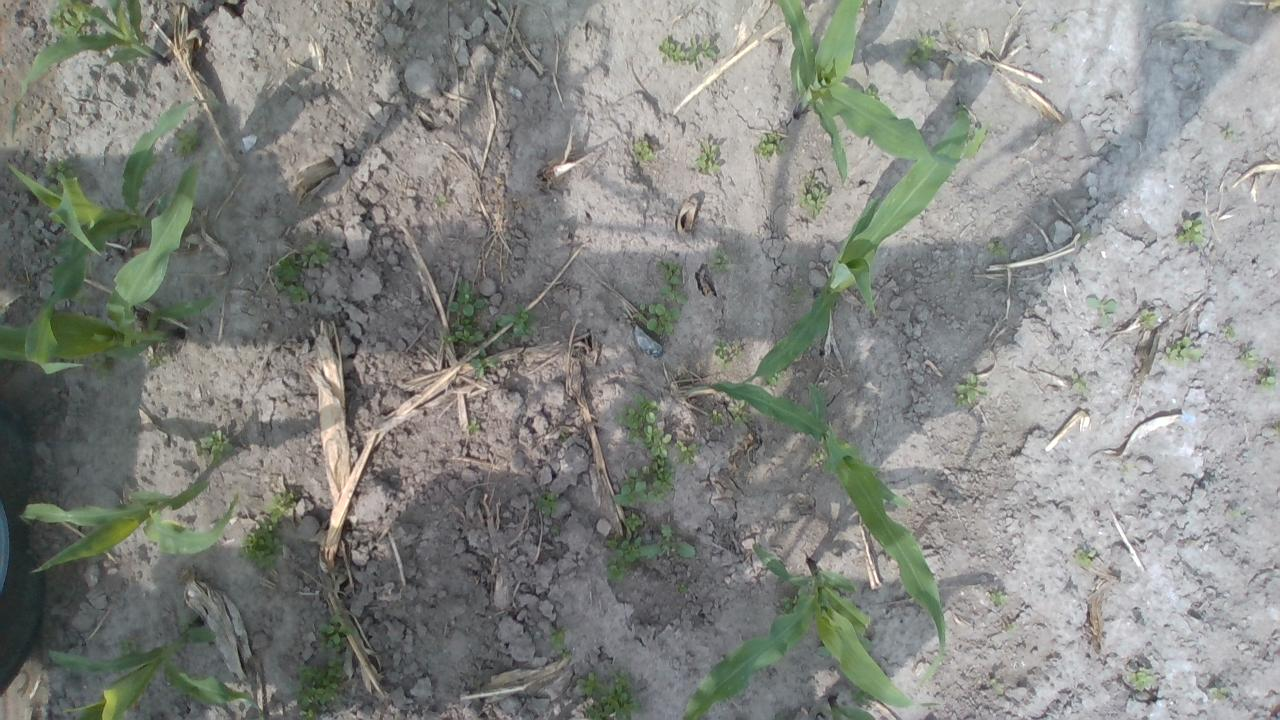Maize: (689, 378, 947, 681), (745, 103, 969, 391), (9, 98, 199, 374), (681, 542, 944, 720), (0, 157, 211, 366), (770, 0, 990, 186), (49, 614, 262, 720), (15, 480, 238, 572), (20, 0, 168, 98), (825, 693, 875, 720)
Weeds: (616, 392, 674, 465), (575, 671, 641, 720), (294, 656, 344, 720), (444, 278, 490, 344), (615, 458, 675, 507), (606, 536, 660, 582), (240, 518, 285, 571), (491, 304, 536, 343), (47, 0, 92, 37), (192, 428, 232, 468), (316, 610, 354, 652), (638, 304, 682, 339), (655, 261, 689, 305), (800, 176, 830, 220), (951, 374, 990, 407), (1165, 336, 1202, 368), (902, 32, 936, 64), (270, 254, 302, 286), (751, 131, 786, 160), (1086, 296, 1116, 328), (686, 36, 717, 66), (172, 126, 202, 157), (692, 143, 720, 174), (471, 346, 498, 378), (302, 238, 332, 266), (268, 492, 294, 524), (1176, 219, 1204, 246), (113, 636, 145, 658), (657, 38, 685, 63), (674, 440, 702, 465), (276, 284, 310, 304), (728, 399, 752, 426), (1128, 667, 1154, 691), (713, 341, 734, 369), (44, 160, 76, 178), (536, 491, 559, 516), (631, 140, 656, 162), (71, 288, 96, 310), (1259, 366, 1280, 391), (658, 524, 674, 556), (1071, 548, 1096, 568), (710, 248, 729, 274), (850, 687, 876, 705), (1139, 308, 1159, 330), (146, 350, 168, 368), (1070, 372, 1088, 393), (1239, 350, 1258, 369), (860, 84, 880, 102), (548, 628, 565, 649), (986, 240, 1008, 256), (676, 542, 696, 559), (624, 512, 642, 530), (788, 286, 804, 305), (988, 589, 1008, 604), (782, 594, 798, 612), (990, 678, 1006, 695), (810, 449, 826, 466), (768, 371, 784, 388), (709, 410, 724, 428), (858, 636, 872, 654), (1208, 687, 1225, 700), (1222, 323, 1236, 337), (432, 194, 446, 208), (815, 644, 831, 656), (1220, 127, 1233, 140), (1006, 622, 1018, 633), (944, 20, 956, 31), (466, 422, 479, 432), (946, 270, 956, 283), (838, 439, 852, 448), (560, 648, 570, 658), (550, 526, 560, 536), (678, 584, 688, 593), (1078, 232, 1088, 241), (1232, 510, 1242, 518), (44, 248, 52, 256)
